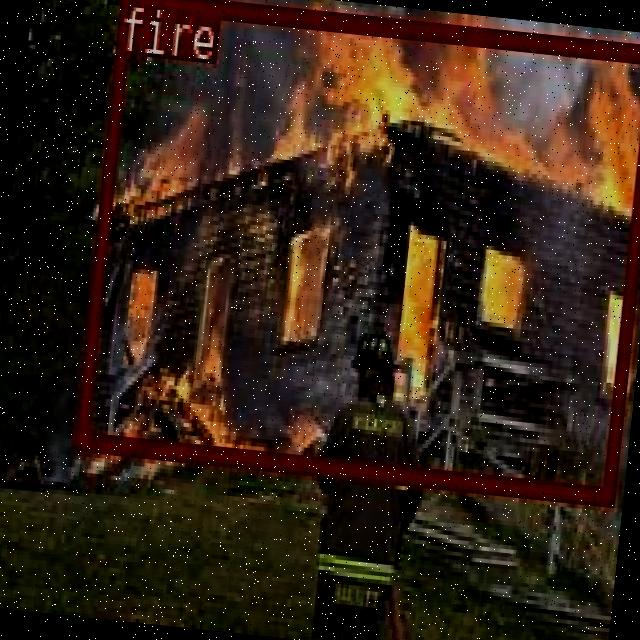fire: (72, 0, 640, 500)
